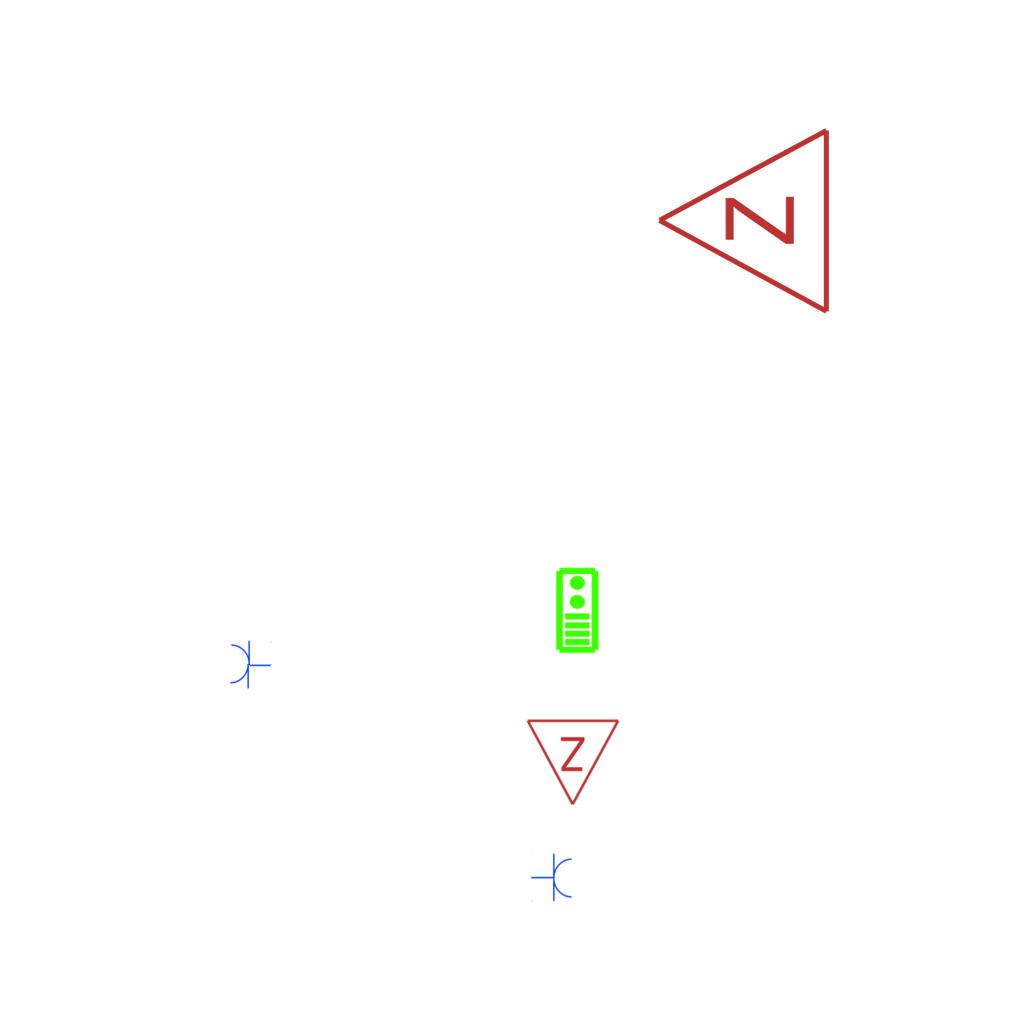Gegensprechanlage_mit_Video: (553, 566, 600, 654)
Schukosteckdose_einfach: (228, 639, 272, 690), (531, 853, 574, 903)
Zimmersignalleuchte: (644, 125, 844, 321), (525, 712, 623, 812)
